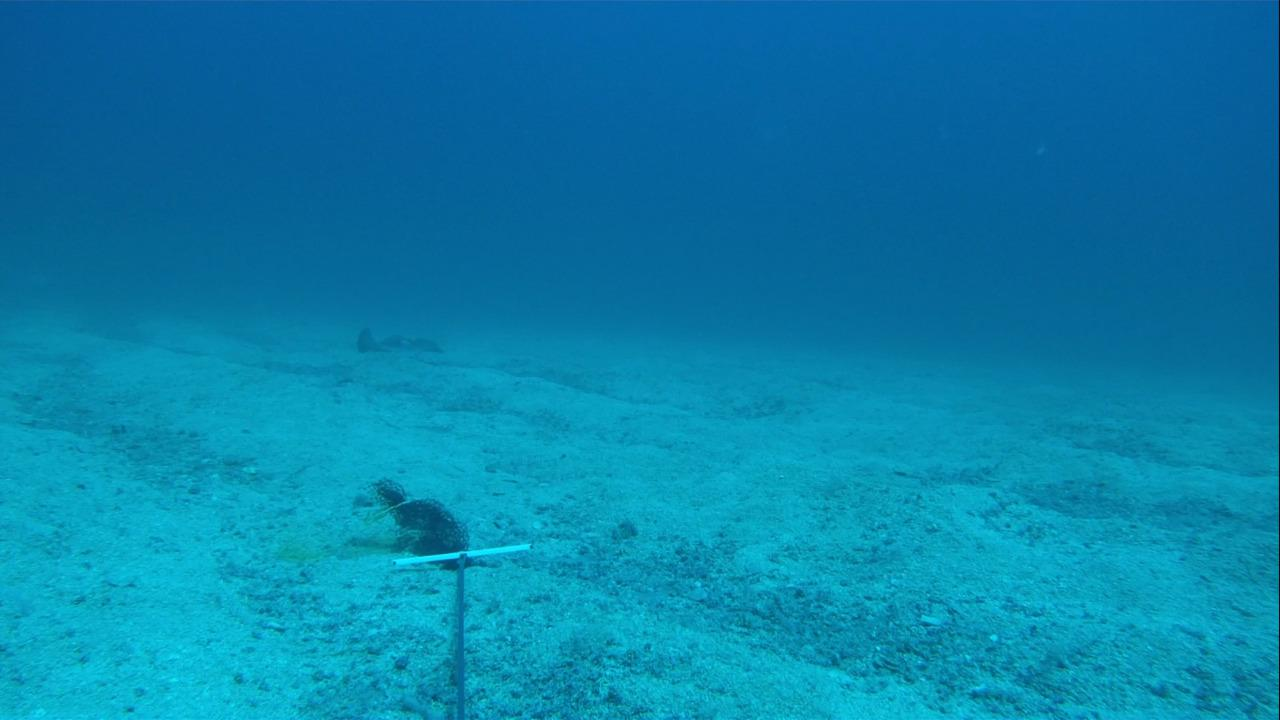myliobatis: (328, 311, 443, 356)
